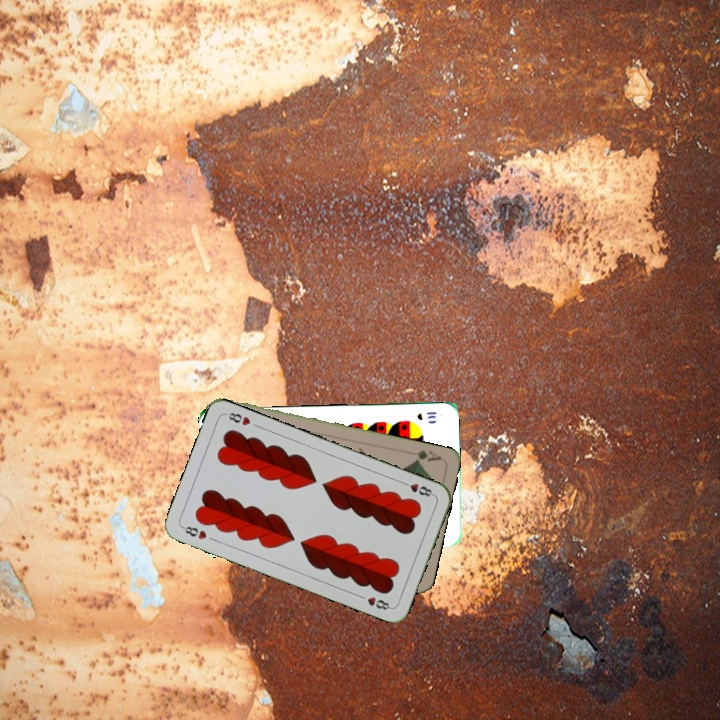GA: (404, 446, 444, 465)
H8: (398, 478, 437, 499), (178, 522, 209, 542)
S10: (413, 408, 439, 422)
